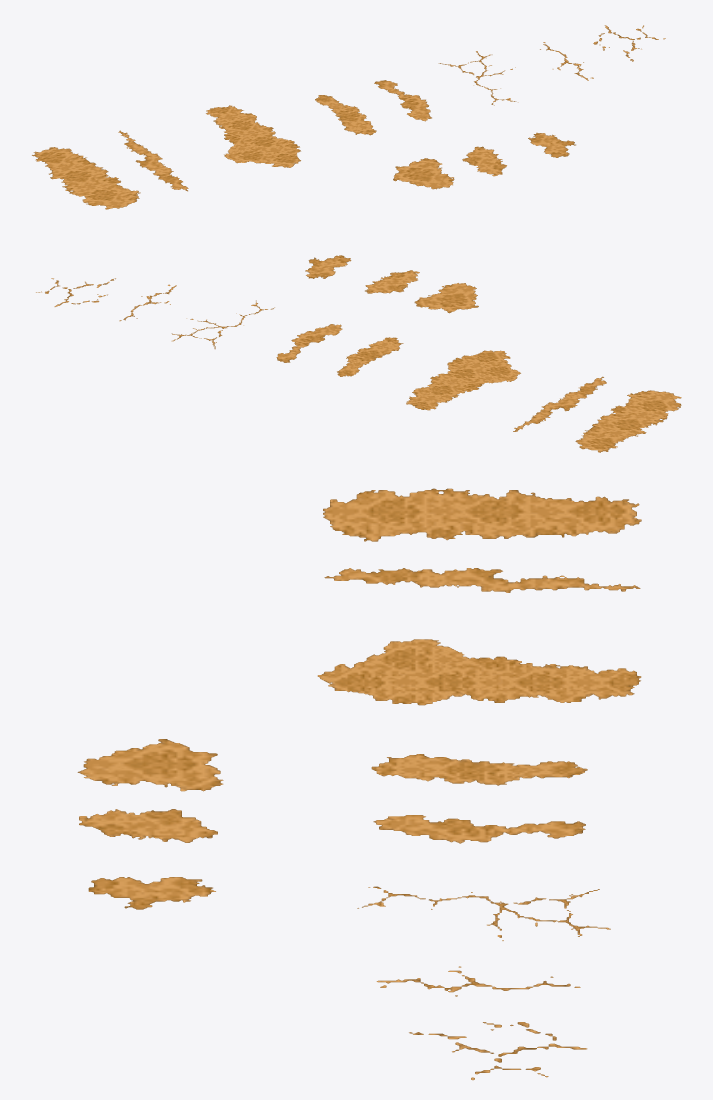
Rendered from ChipsAndCracks.fbx.
3 views of the same model, one above another, from view 1: azimuth 30°, elevation 25°; view 2: azimuth 150°, elevation 25°; view 3: azimuth 270°, elevation 25° (orthographic). The views are drawn at different scales.
Visible parts, largest first — view 1: chips and cracks, chips and cracks.003, chips and cracks.009, chips and cracks.001, chips and cracks.002, chips and cracks.004, chips and cracks.008, chips and cracks.010, chips and cracks.005; view 2: chips and cracks, chips and cracks.003, chips and cracks.009, chips and cracks.001, chips and cracks.002, chips and cracks.004, chips and cracks.008, chips and cracks.010, chips and cracks.005; view 3: chips and cracks, chips and cracks.003, chips and cracks.009, chips and cracks.001, chips and cracks.002, chips and cracks.004, chips and cracks.008, chips and cracks.010, chips and cracks.005, chips and cracks.007.
Boxes of the visible parts, bbox=[...] form: chips and cracks: bbox=[206, 105, 300, 167]; chips and cracks.003: bbox=[32, 147, 140, 209]; chips and cracks.009: bbox=[393, 158, 454, 189]; chips and cracks.001: bbox=[315, 95, 376, 135]; chips and cracks.002: bbox=[118, 130, 188, 191]; chips and cracks.004: bbox=[374, 80, 431, 121]; chips and cracks.008: bbox=[462, 146, 506, 176]; chips and cracks.010: bbox=[528, 132, 575, 157]; chips and cracks.005: bbox=[438, 51, 518, 105]; chips and cracks: bbox=[406, 350, 520, 410]; chips and cracks.003: bbox=[575, 390, 681, 452]; chips and cracks.009: bbox=[414, 283, 478, 313]; chips and cracks.001: bbox=[337, 337, 403, 376]; chips and cracks.002: bbox=[513, 376, 606, 431]; chips and cracks.004: bbox=[276, 324, 342, 362]; chips and cracks.008: bbox=[365, 270, 419, 293]; chips and cracks.010: bbox=[305, 255, 351, 278]; chips and cracks.005: bbox=[171, 300, 274, 349]; chips and cracks: bbox=[317, 639, 641, 705]; chips and cracks.003: bbox=[323, 488, 641, 541]; chips and cracks.009: bbox=[77, 739, 223, 791]; chips and cracks.001: bbox=[371, 754, 587, 785]; chips and cracks.002: bbox=[324, 568, 640, 592]; chips and cracks.004: bbox=[373, 815, 585, 843]; chips and cracks.008: bbox=[79, 809, 217, 842]; chips and cracks.010: bbox=[88, 877, 215, 909]; chips and cracks.005: bbox=[357, 886, 610, 940]; chips and cracks.007: bbox=[409, 1022, 587, 1080].
Bounding box in the file's own units: 422 × 0 × 174.
